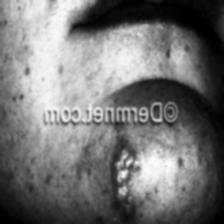Toxin: (111, 142, 138, 221)
